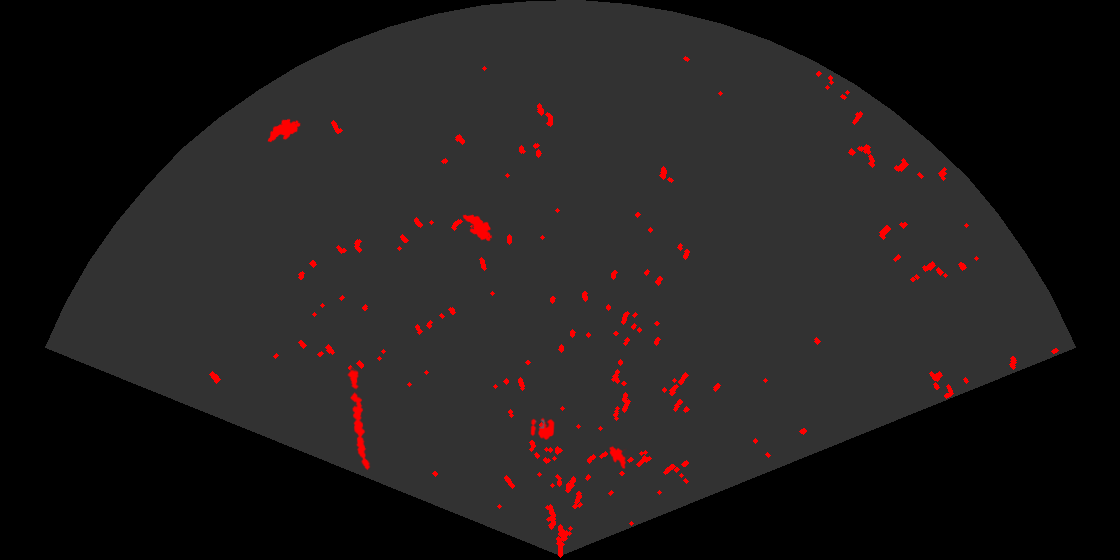AUV: (461, 213, 494, 243), (266, 117, 302, 144), (608, 444, 630, 471)
ball: (529, 416, 556, 441)
chain: (346, 367, 372, 472)
